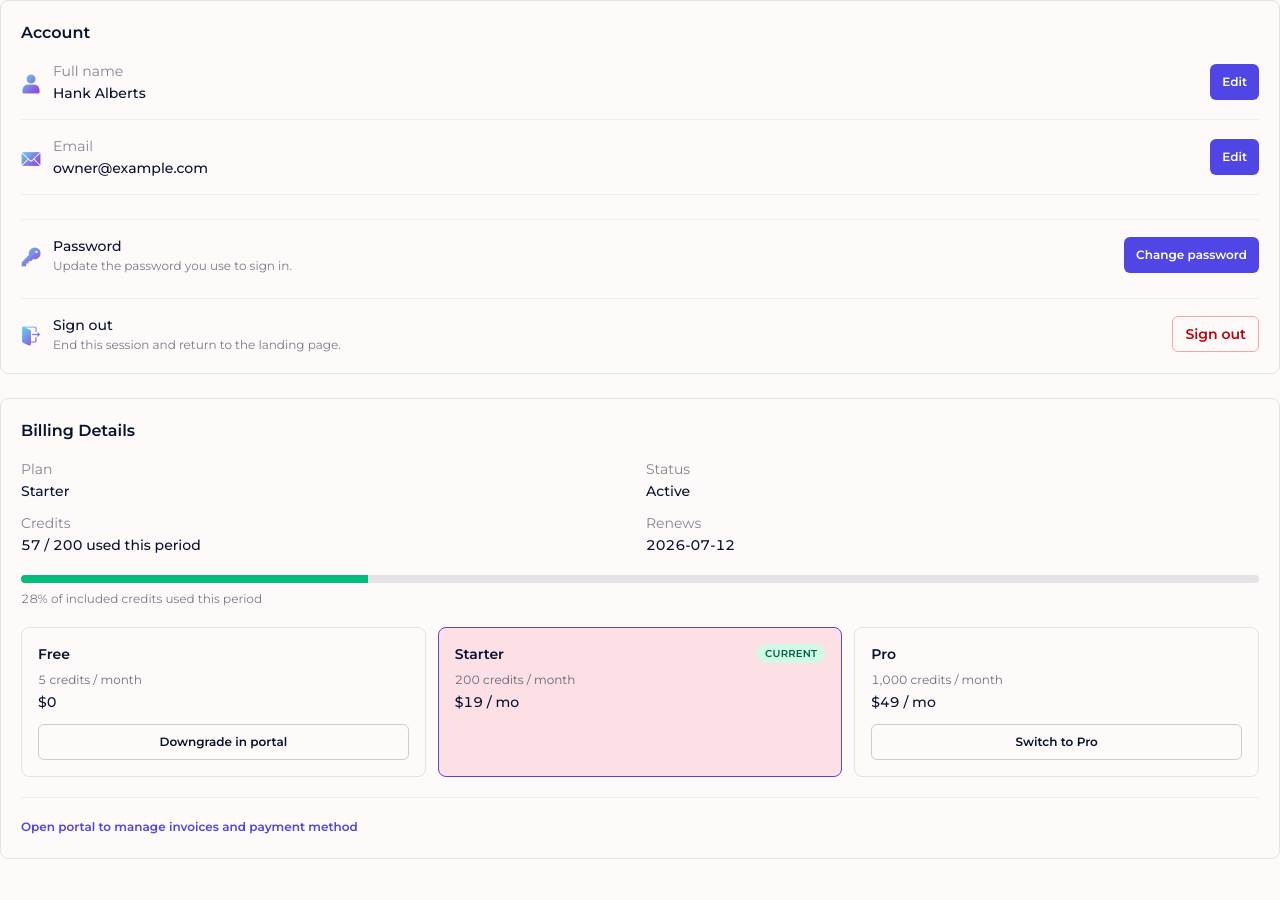
Test: AccountForm — editable full name › switches to edit mode when Edit is clicked and shows the current value
This screenshot has width=1280, height=900.
Click the button with aria-label "Edit full name". click: {"x": 1235, "y": 82}
box: x1=1210 y1=64 x2=1259 y2=100
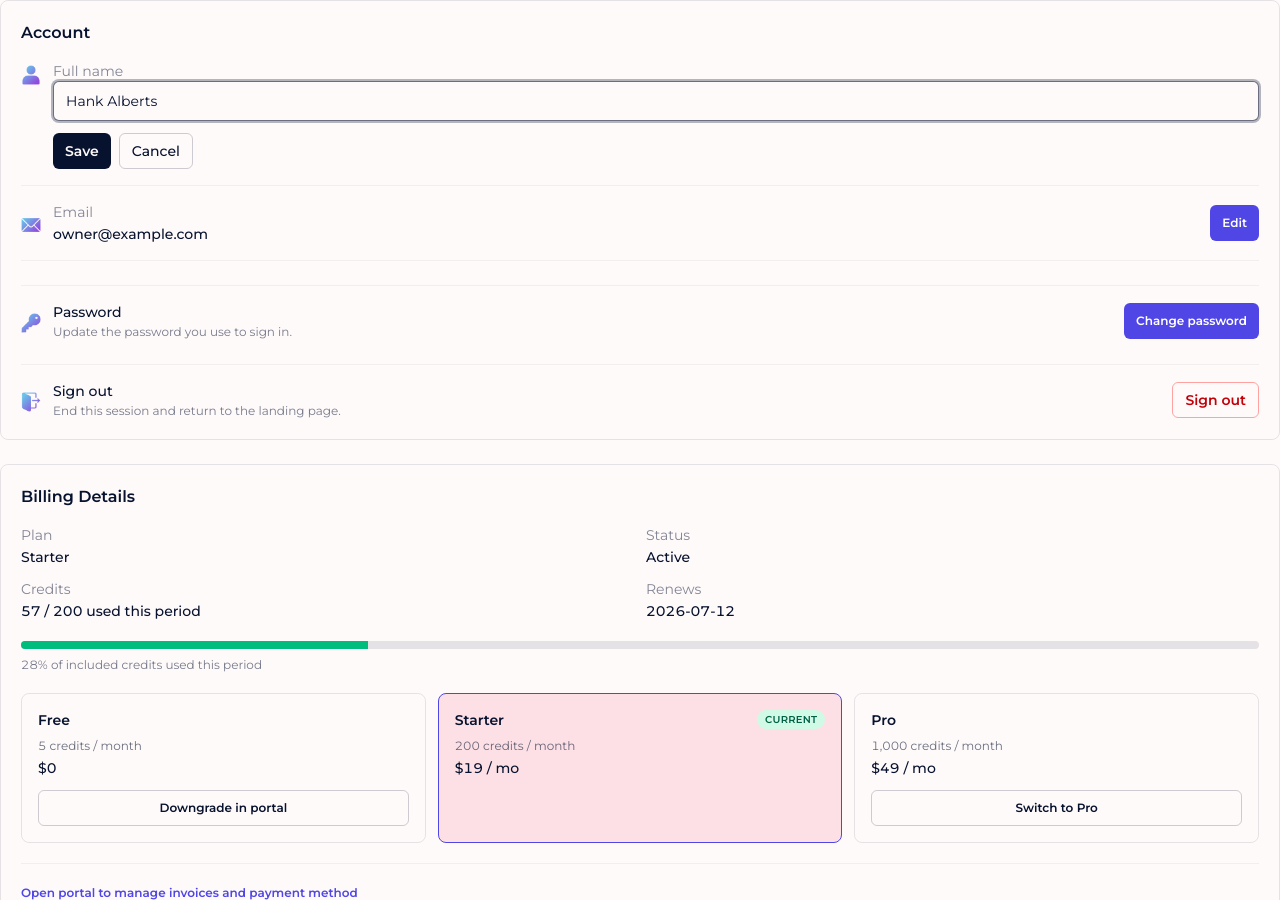
Check: the field labelled "Full name" holds "Hank Alberts", box x1=53 y1=81 x2=1259 y2=121
Check: the button "Save" is shown, box x1=53 y1=133 x2=111 y2=169
Check: the button "Cancel" is shown, box x1=119 y1=133 x2=193 y2=169
